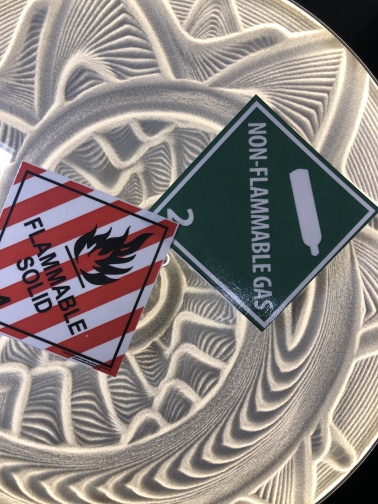FlammableSolid: (1, 162, 178, 376)
NonFlammableGas: (148, 96, 378, 332)
